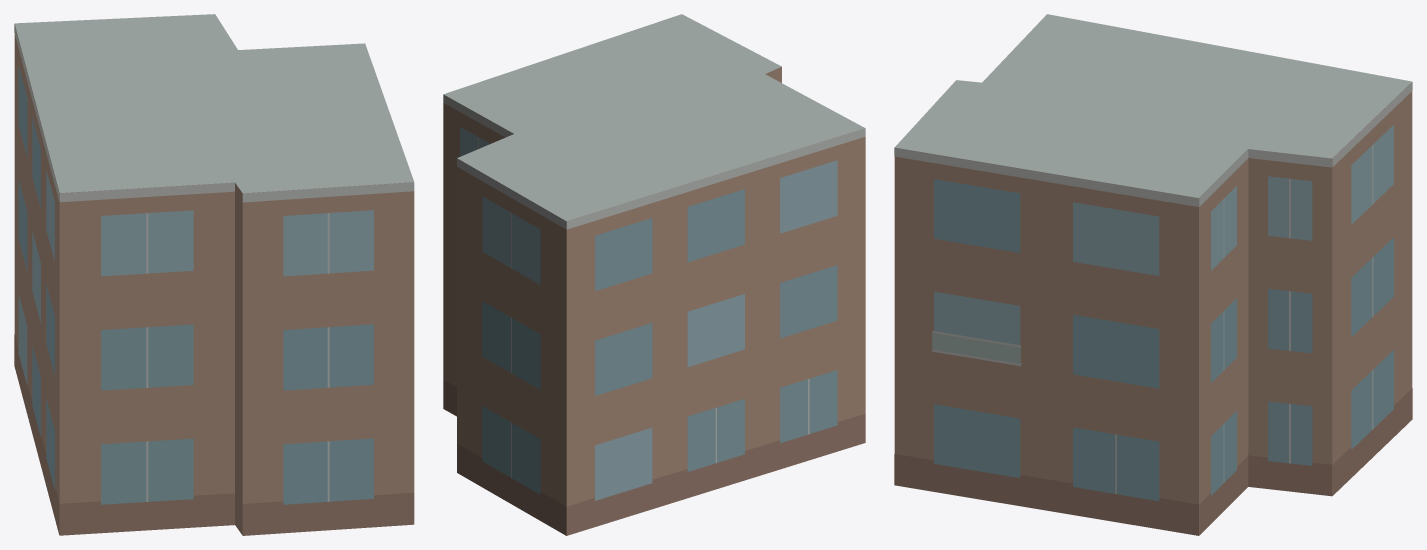
File: survey-upis-32644788.glb
The picture shows the model from 3 angles, left to right: view 1: azimuth 30°, elevation 25°; view 2: azimuth 150°, elevation 25°; view 3: azimuth 270°, elevation 25°; orthographic projection. The views are drawn at different scales.
Visible parts, largest first — view 1: survey-upis-32644788.tmp; view 2: survey-upis-32644788.tmp; view 3: survey-upis-32644788.tmp.
Part boxes in pixels (x1,y1,x2,y2): survey-upis-32644788.tmp: (14,14,414,535); survey-upis-32644788.tmp: (443,14,865,535); survey-upis-32644788.tmp: (894,14,1412,535).
Bounding box in the file's own units: 10.71 × 9.15 × 12.73.
